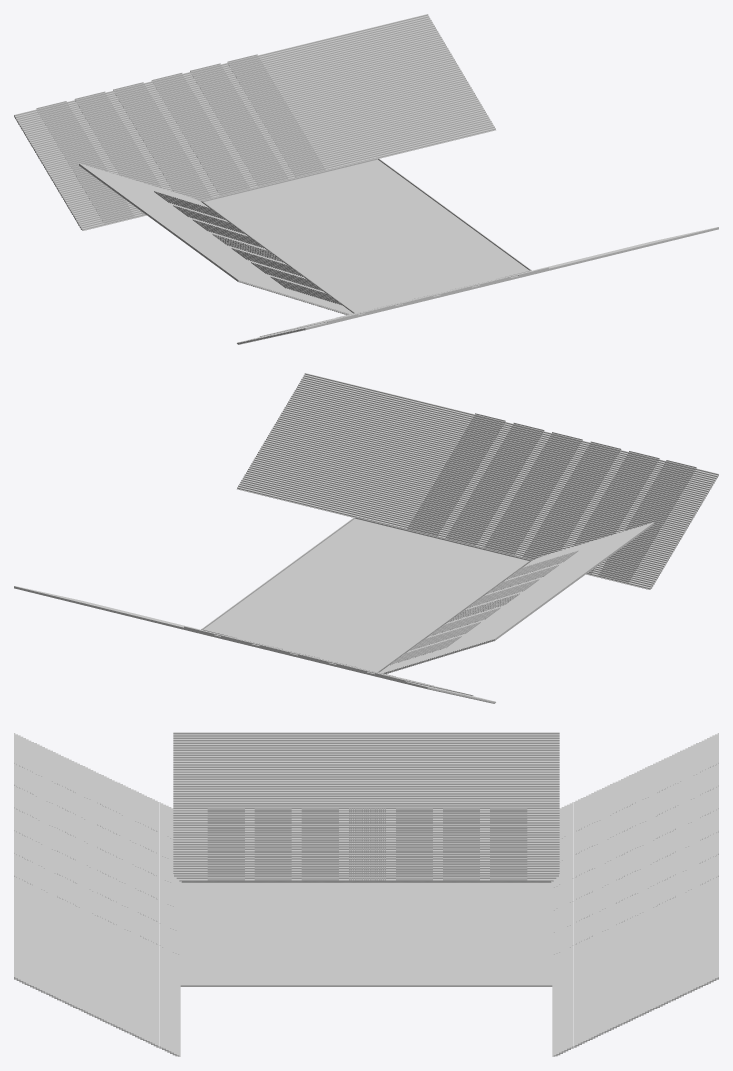
Rendered from スタジアム超簡略版.fbx.
3 renders of one model, top to bottom at view 1: azimuth 30°, elevation 25°; view 2: azimuth 150°, elevation 25°; view 3: azimuth 270°, elevation 25°, orthographic. The views are drawn at different scales.
Parts seen in each view (by area): view 1: 柵, コート（内）, 立方体.007, 立方体.040; view 2: 柵, コート（内）, 立方体.040, 立方体.007; view 3: 柵, コート（内）, 立方体.007, 立方体.040, 立方体.001, 立方体.003, 立方体.004, 立方体.019, 立方体.005, 立方体.008, 立方体.016, 柵.001.
Boxes of the visible parts, x1,y1,x2,y2 form: 柵: (14, 14, 718, 344); コート（内）: (212, 163, 520, 309); 立方体.007: (36, 54, 325, 223); 立方体.040: (259, 267, 548, 336); 柵: (14, 373, 718, 703); コート（内）: (212, 522, 520, 668); 立方体.040: (407, 413, 696, 582); 立方体.007: (184, 626, 473, 695); 柵: (14, 732, 718, 1056); コート（内）: (190, 886, 543, 982); 立方体.007: (553, 744, 718, 954); 立方体.040: (14, 744, 179, 954); 立方体.001: (207, 808, 244, 880); 立方体.003: (254, 808, 291, 880); 立方体.004: (301, 808, 338, 880); 立方体.019: (490, 808, 527, 880); 立方体.005: (396, 808, 432, 880); 立方体.008: (443, 808, 479, 880); 立方体.016: (349, 808, 385, 880); 柵.001: (181, 881, 551, 882).
Bounding box in the file's own units: 172 × 26.64 × 210.
